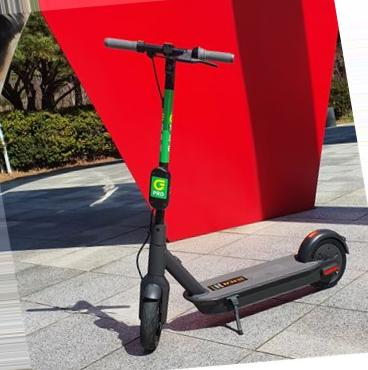scooter: (104, 36, 351, 351)
